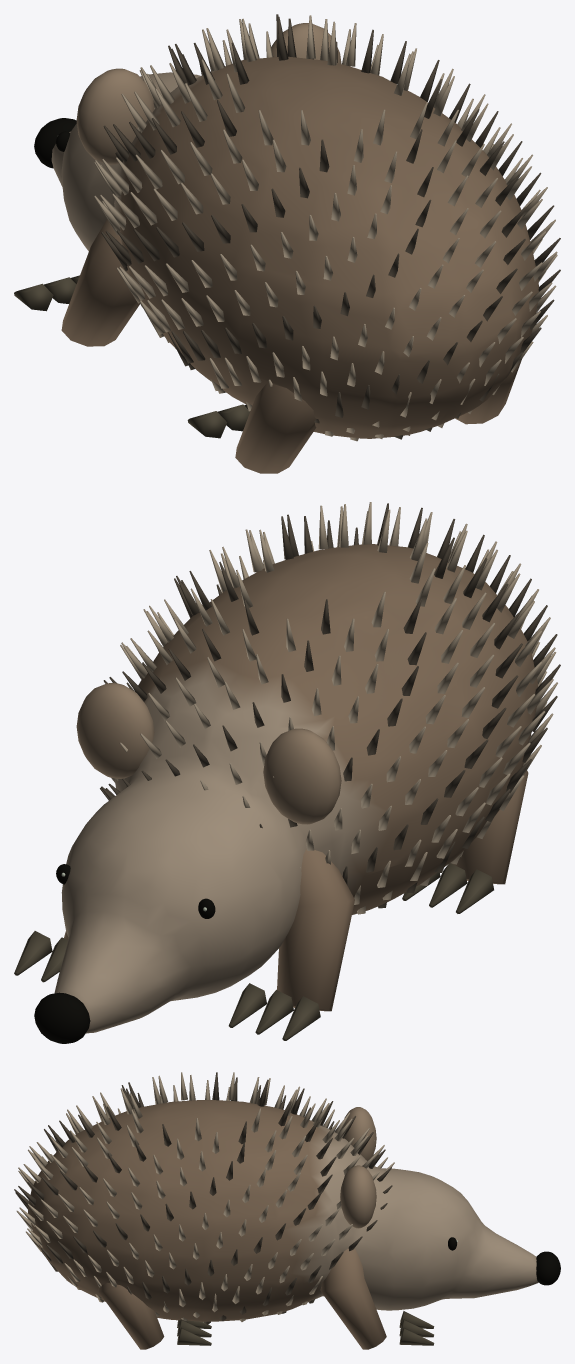
Rendered from animal_hedgehog.glb.
The picture shows the model from 3 angles, top to bottom: view 1: azimuth 30°, elevation 25°; view 2: azimuth 150°, elevation 25°; view 3: azimuth 270°, elevation 25°; orthographic projection. The views are drawn at different scales.
Visible parts, largest first — view 1: Body, LegFL, LegBL, LegBR; view 2: Body, LegFL, LegBL, LegFR; view 3: Body, LegFR, LegBR.
Part boxes in pixels (left/top/right/bottom): Body: left=34, top=14, right=560, bottom=441; LegFL: left=14, top=219, right=139, bottom=346; LegBL: left=187, top=383, right=316, bottom=473; LegBR: left=455, top=359, right=521, bottom=424; Body: left=34, top=502, right=560, bottom=1043; LegFL: left=228, top=849, right=354, bottom=1040; LegBL: left=402, top=770, right=528, bottom=913; LegFR: left=14, top=931, right=68, bottom=982; Body: left=14, top=1072, right=560, bottom=1324; LegFR: left=320, top=1248, right=434, bottom=1349; LegBR: left=98, top=1283, right=211, bottom=1349.
Bounding box in the file's own units: 0.3339 × 0.3074 × 0.6885.
